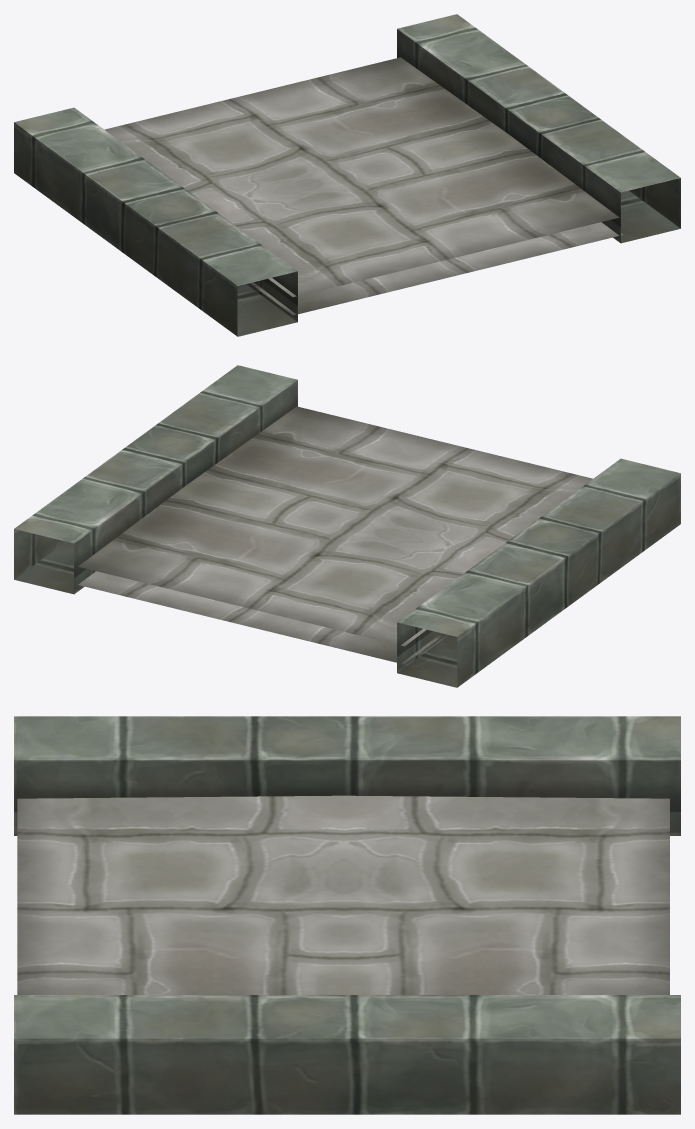
The model's file is bridge_04_tile_02.fbx.
3 renders of one model, top to bottom at view 1: azimuth 30°, elevation 25°; view 2: azimuth 150°, elevation 25°; view 3: azimuth 270°, elevation 25°, orthographic. The views are drawn at different scales.
Visible parts, largest first — view 1: bridge_04_tile_02Mesh; view 2: bridge_04_tile_02Mesh; view 3: bridge_04_tile_02Mesh.
Part boxes in pixels (x1,y1,x2,y2): bridge_04_tile_02Mesh: [14, 14, 680, 336]; bridge_04_tile_02Mesh: [14, 365, 680, 687]; bridge_04_tile_02Mesh: [14, 716, 680, 1114].
Size of the model in its own units: 2.76 by 0.3024 by 2.41.
